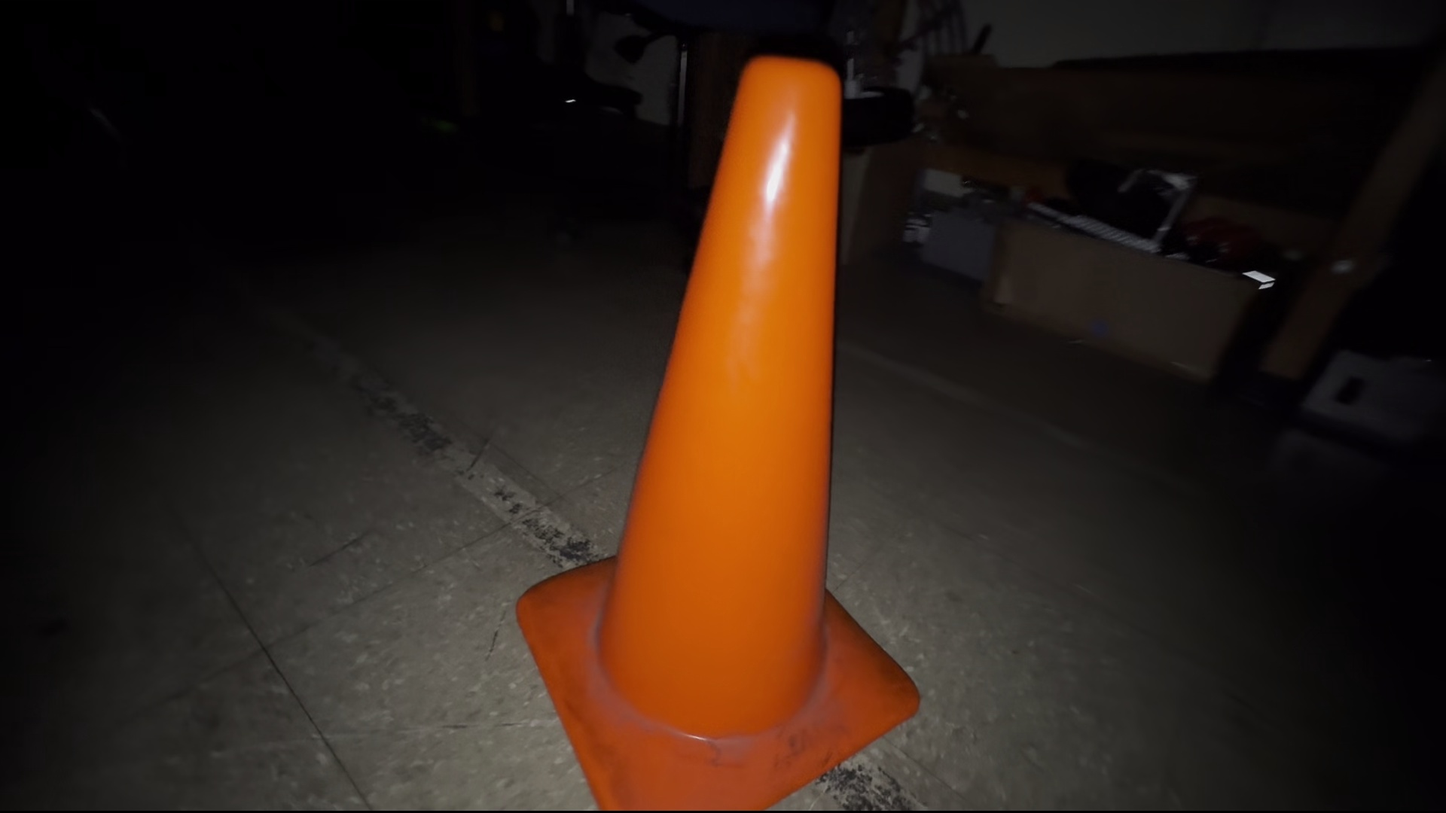traffic_cone: (515, 53, 922, 811)
